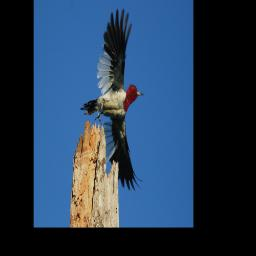Woodpecker: (80, 8, 144, 192)
